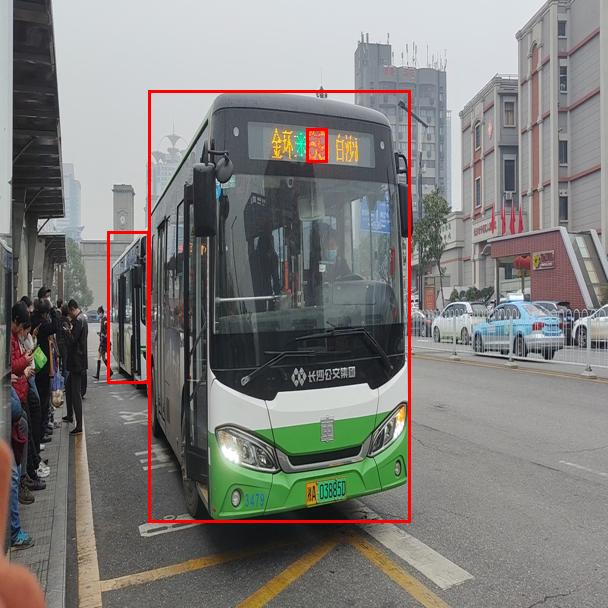bus: (148, 90, 410, 522), (107, 231, 149, 383)
screen: (306, 128, 327, 162)
